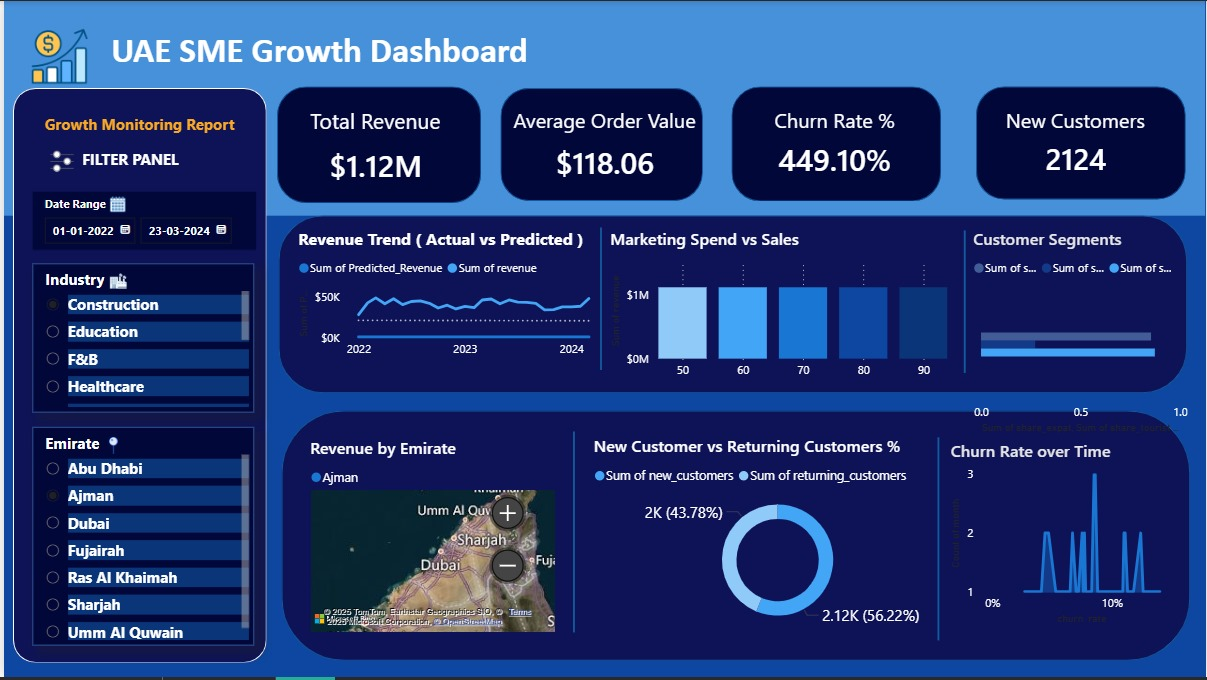

What the dashboard file says about the page in this screenshot:
{"tool":"powerbi","page":{"name":"Page 1","canvas":[1280,720],"ordinal":0},"visuals":[{"type":"shape","box":[0,0,1279.4,228.7],"z":0},{"type":"shape","box":[9.4,92.6,270.2,612.3],"z":1000},{"type":"textbox","box":[38.9,114.9,325.2,38.9],"z":2000},{"type":"slicer","fields":{"Values":["sme_profiles.industry"]},"box":[30.2,279.7,236.2,158.7],"z":3000},{"type":"slicer","fields":{"Values":["sme_profiles.emirate"]},"box":[30.2,453.5,236.2,232.4],"z":4000},{"type":"shape","box":[291.2,91.2,217.4,124.2],"z":5000},{"type":"card","title":"Total Revenue","fields":{"Values":["Sum(monthly_kpis.revenue)"]},"box":[294.8,111.5,200.3,102],"z":6000},{"type":"shape","box":[528.1,93.2,215.5,120.4],"z":7000},{"type":"card","title":"Average Order Value","fields":{"Values":["Feature_importance.Average Order Value"]},"box":[506.5,111.5,266.5,90.7],"z":8000},{"type":"shape","box":[774.6,91.2,223.3,122.3],"z":9000},{"type":"card","title":"Churn Rate %","fields":{"Values":["Sum(monthly_kpis.churn_rate)"]},"box":[759.7,111.5,251.3,90.7],"z":10000},{"type":"shape","box":[1034.8,91.2,223.3,120.4],"z":11000},{"type":"card","title":"New Customers","fields":{"Values":["Sum(monthly_kpis.new_customers)"]},"box":[1035.6,111.5,211.7,90.7],"z":12000},{"type":"textbox","box":[77.7,151.4,201.9,62.1],"z":13000},{"type":"image","box":[42.7,143.7,36.9,54.4],"z":14000},{"type":"image","box":[17.5,23.3,83.5,69.9],"z":15000},{"type":"slicer","fields":{"Values":["monthly_kpis.month"]},"box":[30.4,202.9,238.1,62.3],"z":16000},{"type":"image","box":[97.5,202.9,47.9,27.2],"z":17000},{"type":"image","box":[107,280.3,29.2,37],"z":18000},{"type":"image","box":[102,453.5,28.3,39.7],"z":19000},{"type":"shape","box":[291.7,227.9,967.7,189.3],"z":20000},{"type":"lineChart","title":"Revenue Trend ( Actual vs Predicted )","fields":{"Y":["Sum(sme_revenure_prediction.Predicted_Revenue)","Sum(monthly_kpis.revenue_aed)"],"Category":["macro_indicators_uae_monthly.month.Variation.Date Hierarchy.Year","macro_indicators_uae_monthly.month.Variation.Date Hierarchy.Quarter","macro_indicators_uae_monthly.month.Variation.Date Hierarchy.Month","macro_indicators_uae_monthly.month.Variation.Date Hierarchy.Day"]},"box":[308.4,241.2,332.3,147],"z":21000},{"type":"columnChart","title":"Marketing Spend vs Sales","fields":{"Y":["Sum(monthly_kpis.revenue)"],"Category":["sme_revenure_prediction.Marketing_Spend"]},"box":[640.7,241.2,369.1,169.4],"z":22000},{"type":"shape","box":[295.5,436.5,967.7,266.6],"z":23000},{"type":"donutChart","title":" New Customer vs Returning Customers %","fields":{"Y":["Sum(monthly_kpis.new_customers)","Sum(monthly_kpis.returning_customers)"]},"box":[622.8,461.3,400.9,214.1],"z":24000},{"type":"stackedAreaChart","title":"Churn Rate over Time","fields":{"Category":["monthly_kpis.churn_rate"],"Y":["CountNonNull(monthly_kpis.month)"]},"box":[1003.3,466.5,257.2,201.3],"z":25000},{"type":"map","title":"Revenue by Emirate","fields":{"Size":["Sum(monthly_kpis.revenue)"],"Series":["sme_profiles.emirate"]},"box":[321.1,463.2,270.5,214.1],"z":26000},{"type":"clusteredBarChart","title":"Customer Segments","fields":{"Y":["Sum(customer_segments.share_expat)","Sum(customer_segments.share_tourist)","Sum(customer_segments.share_local_resident)"]},"box":[1027.3,241.2,238.1,223.7],"z":27000},{"type":"shape","box":[556,241.2,159.8,151.8],"z":28000},{"type":"shape","box":[873.9,244.4,298.8,151.8],"z":29000},{"type":"shape","box":[527.4,459.3,159.6,214.1],"z":30000},{"type":"shape","box":[914.8,465.2,159.6,216],"z":31000},{"type":"textbox","box":[101.2,23.4,476.8,72],"z":32000}]}

Visuals, with their boxes in screenshot pixels (x1, y1, x2, y2), scaled from the page's 1280x720 canvas onto the 1207x680 screenshot:
shape: bbox=(0, 0, 1206, 216)
shape: bbox=(9, 87, 264, 666)
textbox: bbox=(37, 109, 343, 145)
slicer - sme_profiles.industry: bbox=(28, 264, 251, 414)
slicer - sme_profiles.emirate: bbox=(28, 428, 251, 648)
shape: bbox=(275, 86, 480, 203)
"Total Revenue" card: bbox=(278, 105, 467, 202)
shape: bbox=(498, 88, 701, 202)
"Average Order Value" card: bbox=(478, 105, 729, 191)
shape: bbox=(730, 86, 941, 202)
"Churn Rate %" card: bbox=(716, 105, 953, 191)
shape: bbox=(976, 86, 1186, 200)
"New Customers" card: bbox=(977, 105, 1176, 191)
textbox: bbox=(73, 143, 264, 202)
image: bbox=(40, 136, 75, 187)
image: bbox=(17, 22, 95, 88)
slicer - monthly_kpis.month: bbox=(29, 192, 253, 250)
image: bbox=(92, 192, 137, 217)
image: bbox=(101, 265, 128, 300)
image: bbox=(96, 428, 123, 466)
shape: bbox=(275, 215, 1188, 394)
"Revenue Trend ( Actual vs Predicted )" lineChart: bbox=(291, 228, 604, 367)
"Marketing Spend vs Sales" columnChart: bbox=(604, 228, 952, 388)
shape: bbox=(279, 412, 1191, 664)
" New Customer vs Returning Customers %" donutChart: bbox=(587, 436, 965, 638)
"Churn Rate over Time" stackedAreaChart: bbox=(946, 441, 1189, 631)
"Revenue by Emirate" map: bbox=(303, 437, 558, 640)
"Customer Segments" clusteredBarChart: bbox=(969, 228, 1193, 439)
shape: bbox=(524, 228, 675, 371)
shape: bbox=(824, 231, 1106, 374)
shape: bbox=(497, 434, 648, 636)
shape: bbox=(863, 439, 1013, 643)
textbox: bbox=(95, 22, 545, 90)
